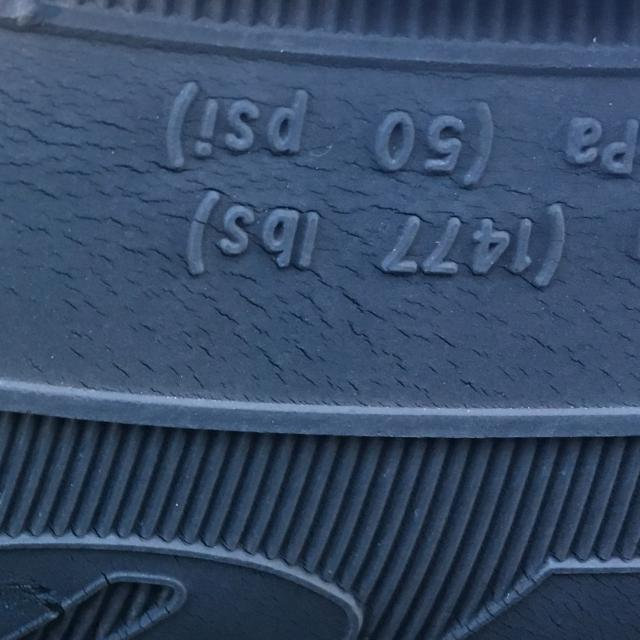Cracks: (0, 28, 640, 422), (0, 560, 640, 640)
